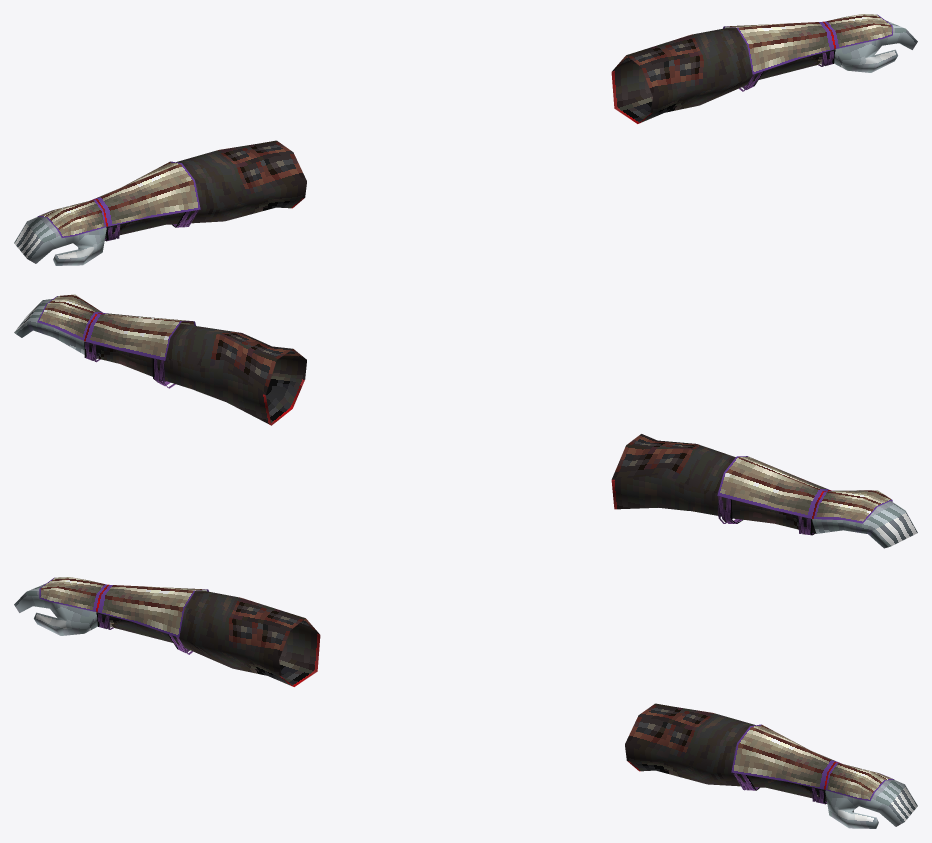
The model's file is m_arm159.glb.
3 renders of one model, top to bottom at view 1: azimuth 30°, elevation 25°; view 2: azimuth 150°, elevation 25°; view 3: azimuth 330°, elevation 25°, orthographic.
Bounding box in the file's own units: 179 × 12.8 × 14.95.
1 material, 1 textured.
